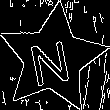N_N: (29, 30, 77, 87)
